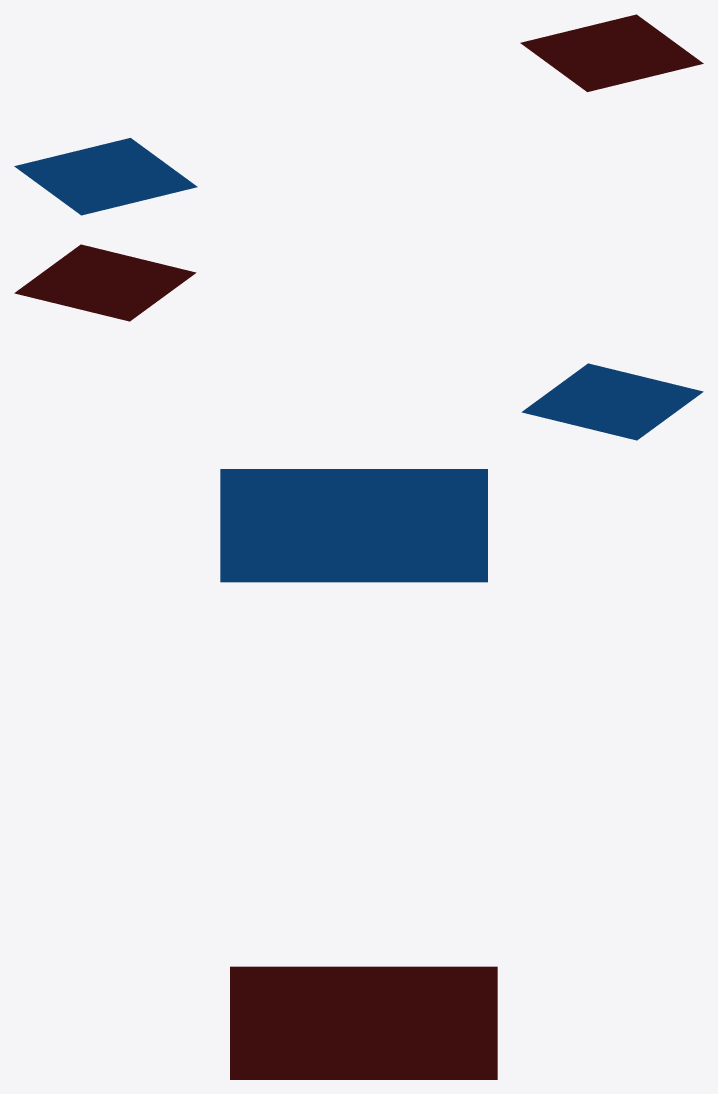
Rendered from nivel_jam01_scanners.fbx.
The picture shows the model from 3 angles, top to bottom: view 1: azimuth 30°, elevation 25°; view 2: azimuth 150°, elevation 25°; view 3: azimuth 270°, elevation 25°; orthographic projection. The views are drawn at different scales.
Parts seen in each view (by area): view 1: ScannerQuad_P2, ScannerQuad_P1; view 2: ScannerQuad_P2, ScannerQuad_P1; view 3: ScannerQuad_P2, ScannerQuad_P1.
Boxes of the visible parts, x1=… form: ScannerQuad_P2: x1=520, y1=14, x2=703, y2=91; ScannerQuad_P1: x1=14, y1=138, x2=197, y2=215; ScannerQuad_P2: x1=14, y1=244, x2=196, y2=321; ScannerQuad_P1: x1=521, y1=363, x2=703, y2=440; ScannerQuad_P2: x1=230, y1=966, x2=497, y2=1079; ScannerQuad_P1: x1=220, y1=469, x2=487, y2=582.
Bounding box in the file's own units: 1232 × 4.64 × 238.
